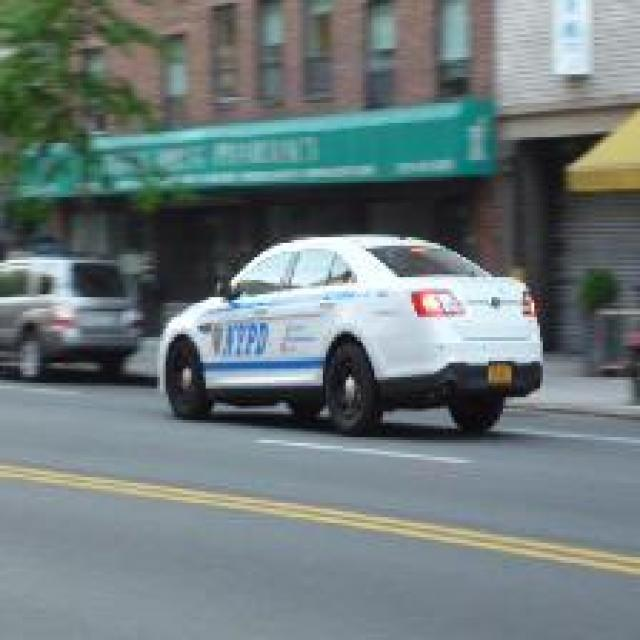emergency: (156, 231, 546, 439)
